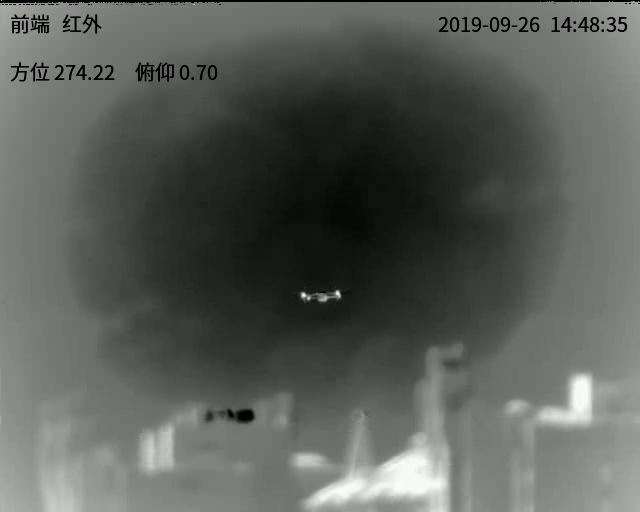DRONE: (296, 289, 345, 303)
